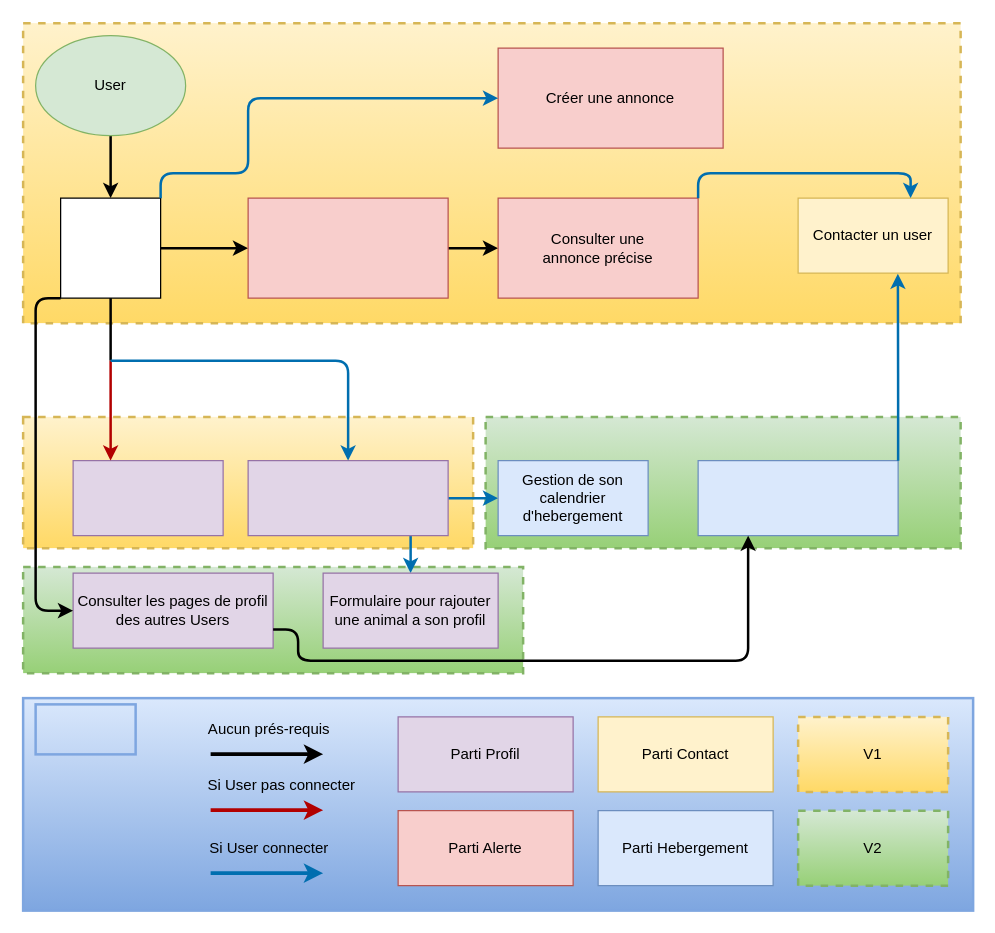
Some shapes in this 995 by 933 pixel diagram are drawn without their labels. The shapes that lost their labels are listed below. From the top down, each one's centre as x and y in pixels, then its label:
At (110,247): "Acceuil".
At (347,247): "Page Perdu-Page Vu/Trouvé".
At (147,497): "Page de connexion/Inscription".
At (347,497): "Page de gestion de Profil".
At (797,497): "Consulter les Agendas des Users".
At (85,728): "Légende".
